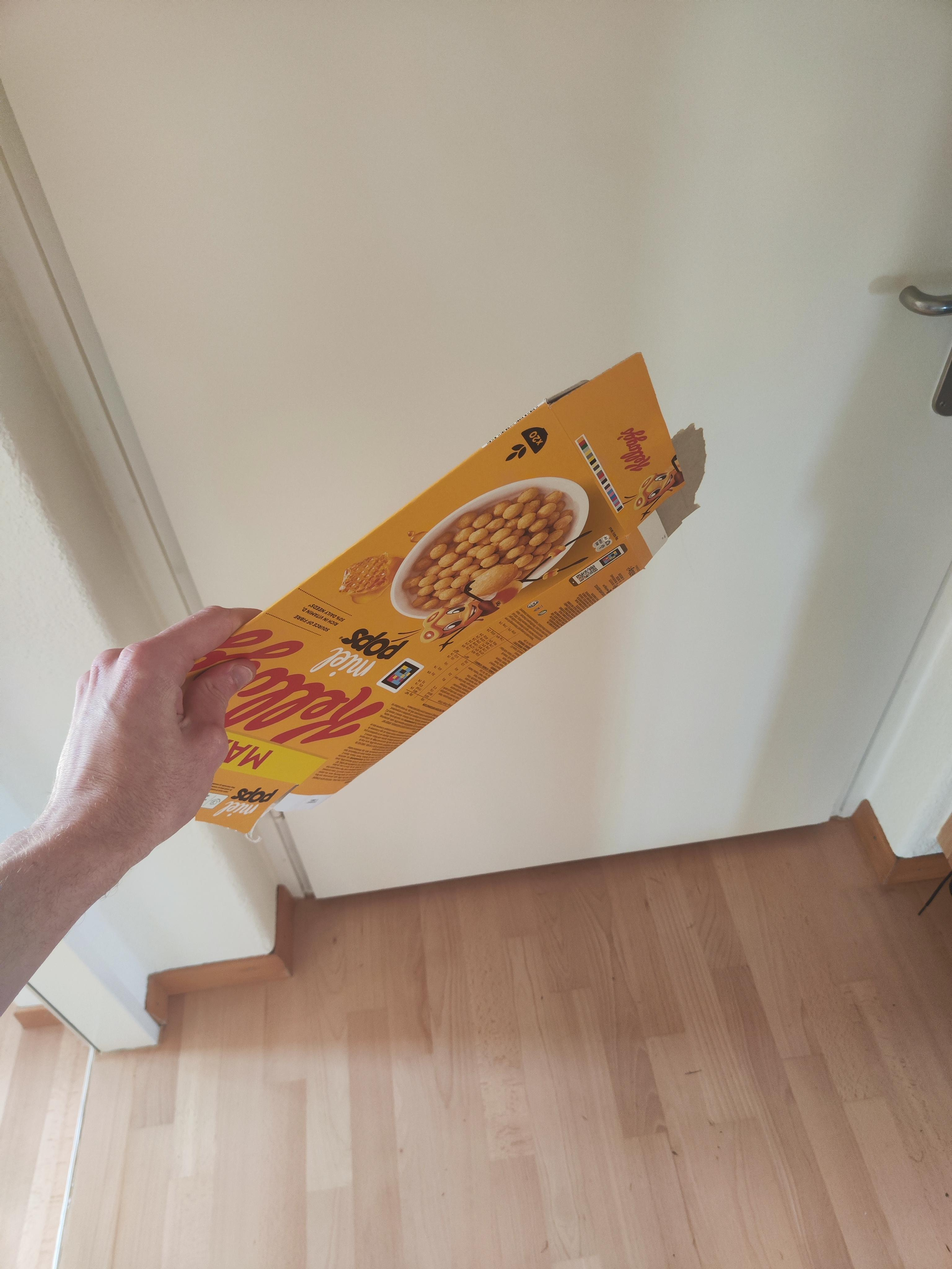Cardboard: (180, 348, 710, 822)
